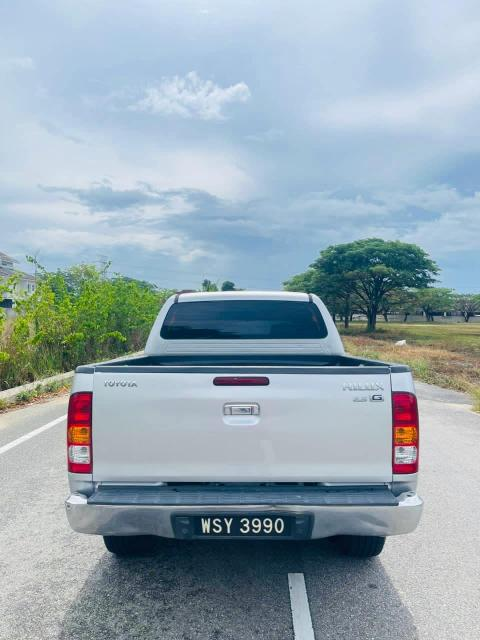License_Plate: (189, 511, 297, 542)
car: (61, 289, 429, 568)
